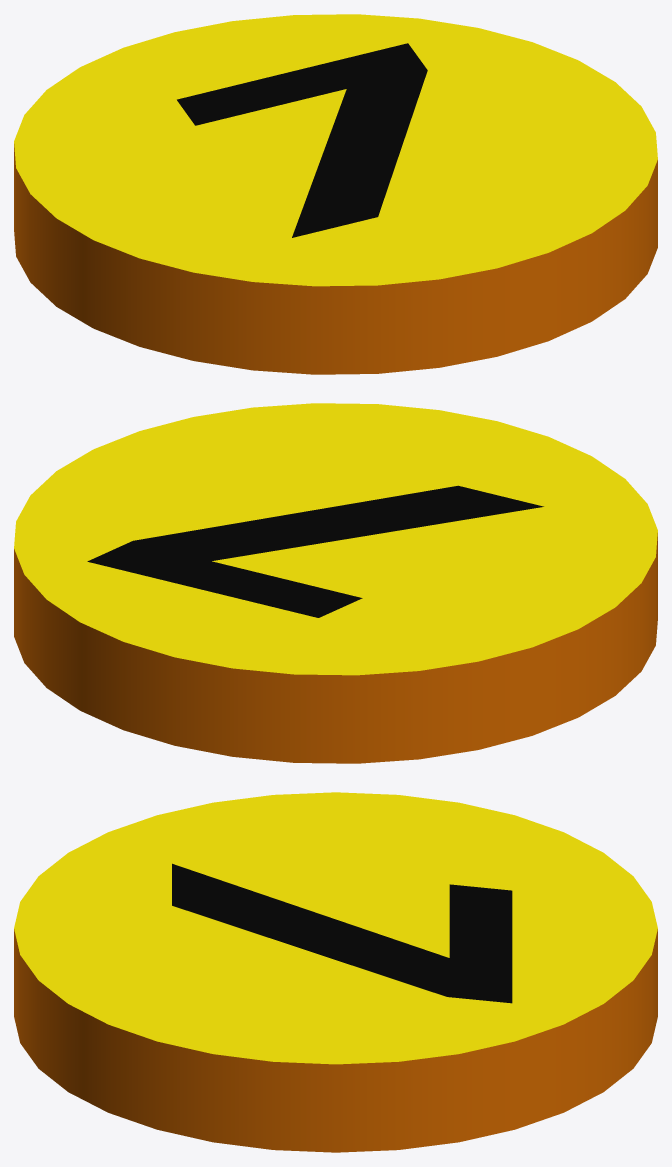
The model's file is seven.fbx.
3 views of the same model, one above another, from view 1: azimuth 30°, elevation 25°; view 2: azimuth 150°, elevation 25°; view 3: azimuth 270°, elevation 25° (orthographic).
Visible parts, largest first — view 1: ทรงกระบอก.006, ช้อความ.006; view 2: ทรงกระบอก.006, ช้อความ.006; view 3: ทรงกระบอก.006, ช้อความ.006.
Boxes of the visible parts, x1,y1,x2,y2 form: ทรงกระบอก.006: (14, 14, 657, 374); ช้อความ.006: (177, 43, 427, 237); ทรงกระบอก.006: (14, 403, 657, 763); ช้อความ.006: (87, 485, 543, 617); ทรงกระบอก.006: (14, 792, 657, 1152); ช้อความ.006: (172, 863, 512, 1003).
Bounding box in the file's own units: 200 × 31.32 × 200.
